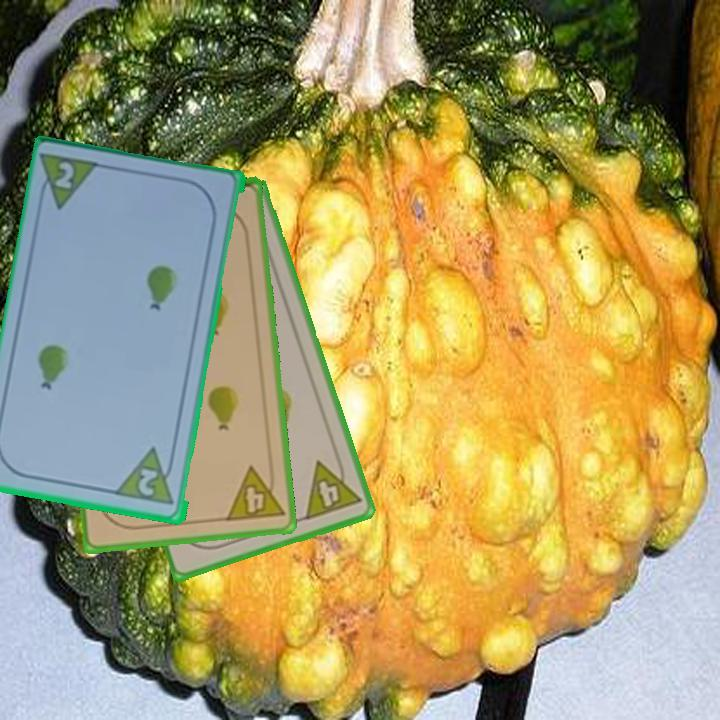2p: (35, 150, 105, 214), (135, 465, 161, 499)
4p: (301, 451, 364, 523), (222, 461, 287, 525)
